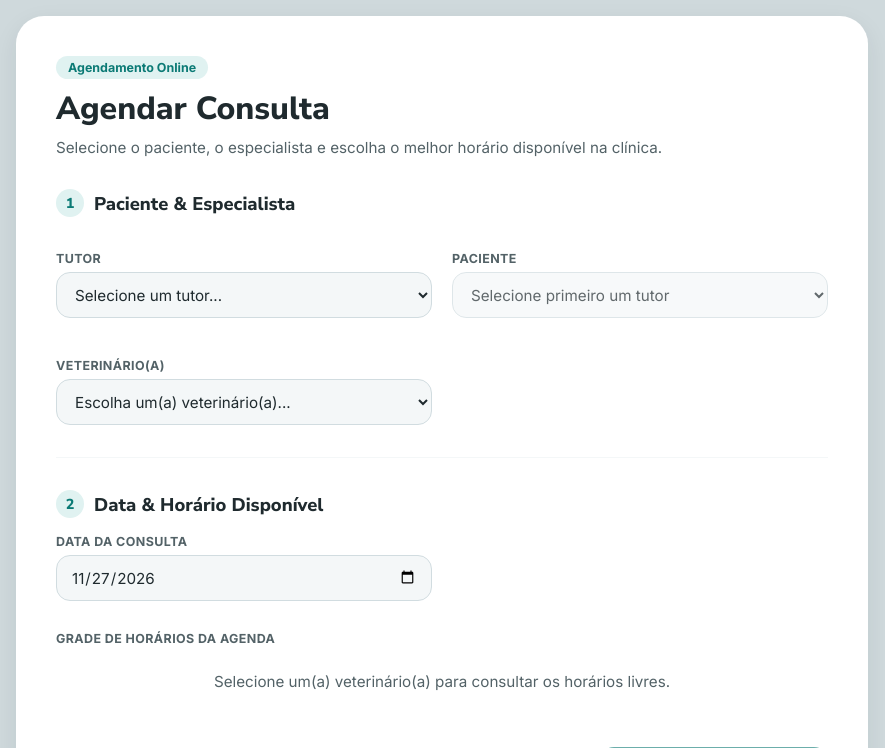
Scenario: resposta atrasada de disponibilidade nao restaura horarios antigos
Select "Ana · cadastro #7" in the dropdown with id "agendamento-tutor". click: coordinates (244, 295)
box: [56, 272, 432, 318]
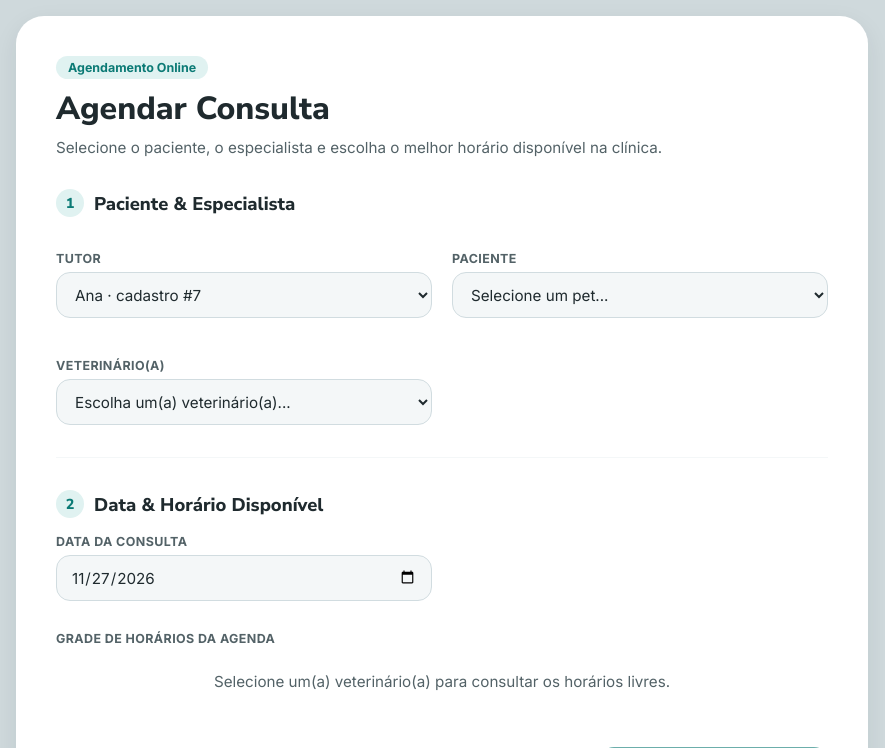
Select "Luna (Gato) · pet #12" in the dropdown with id "agendamento-pet". click: coordinates (640, 295)
box: [452, 272, 828, 318]
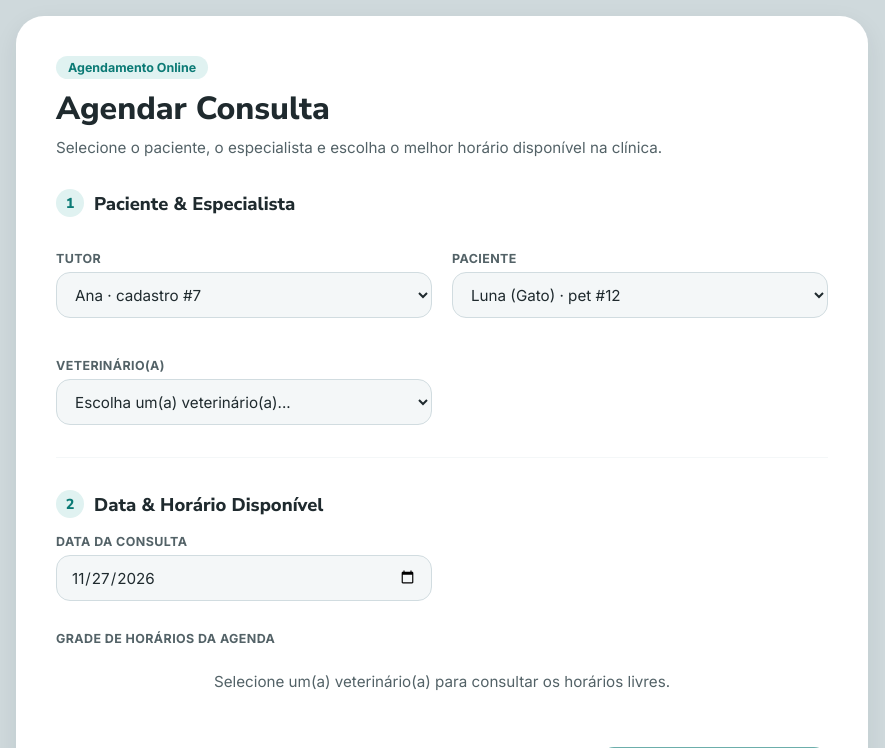
Select "Maria -" in the dropdown with id "agendamento-veterinario". click: coordinates (244, 402)
box: [56, 379, 432, 425]
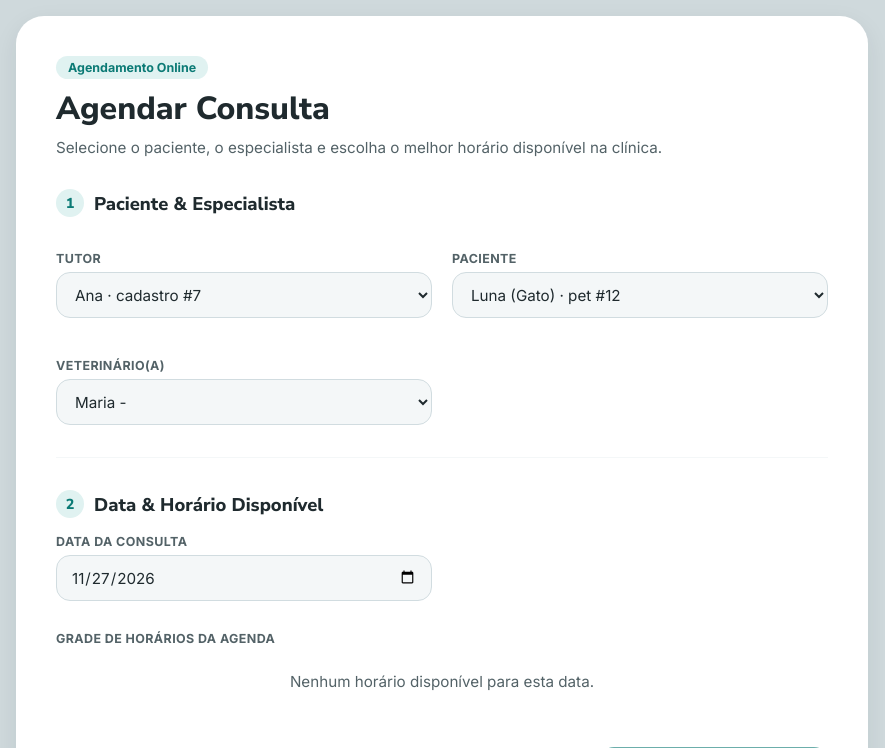
Type "2099-12-10" into the date field. click: coordinates (244, 578)
box: [56, 555, 432, 601]
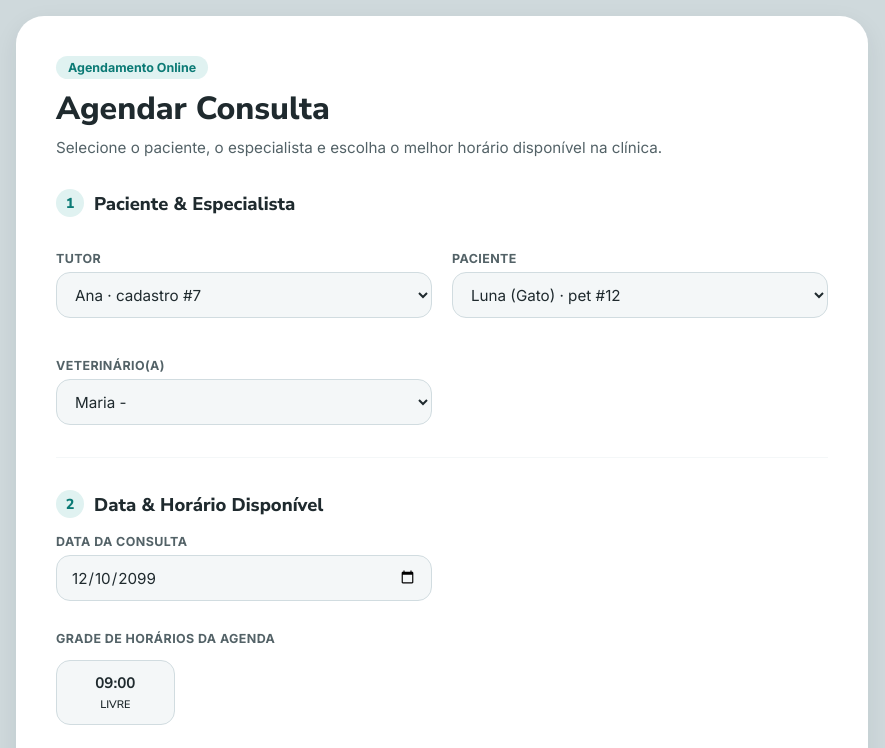
Type "2099-12-11" into the date field. click: coordinates (244, 578)
box: [56, 555, 432, 601]
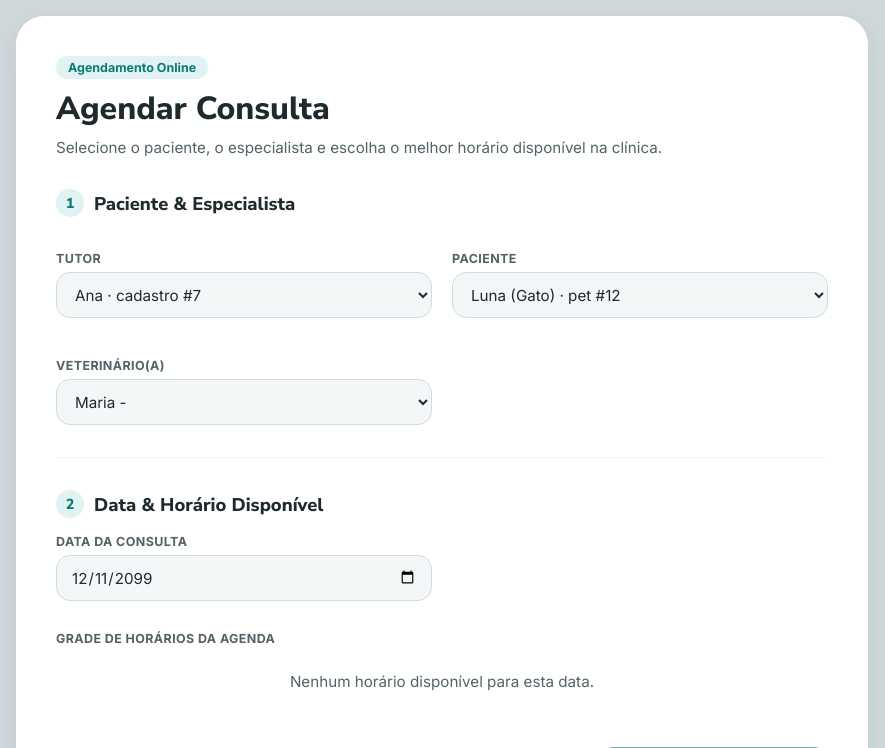
Expected: the button with class "horario" is gone
